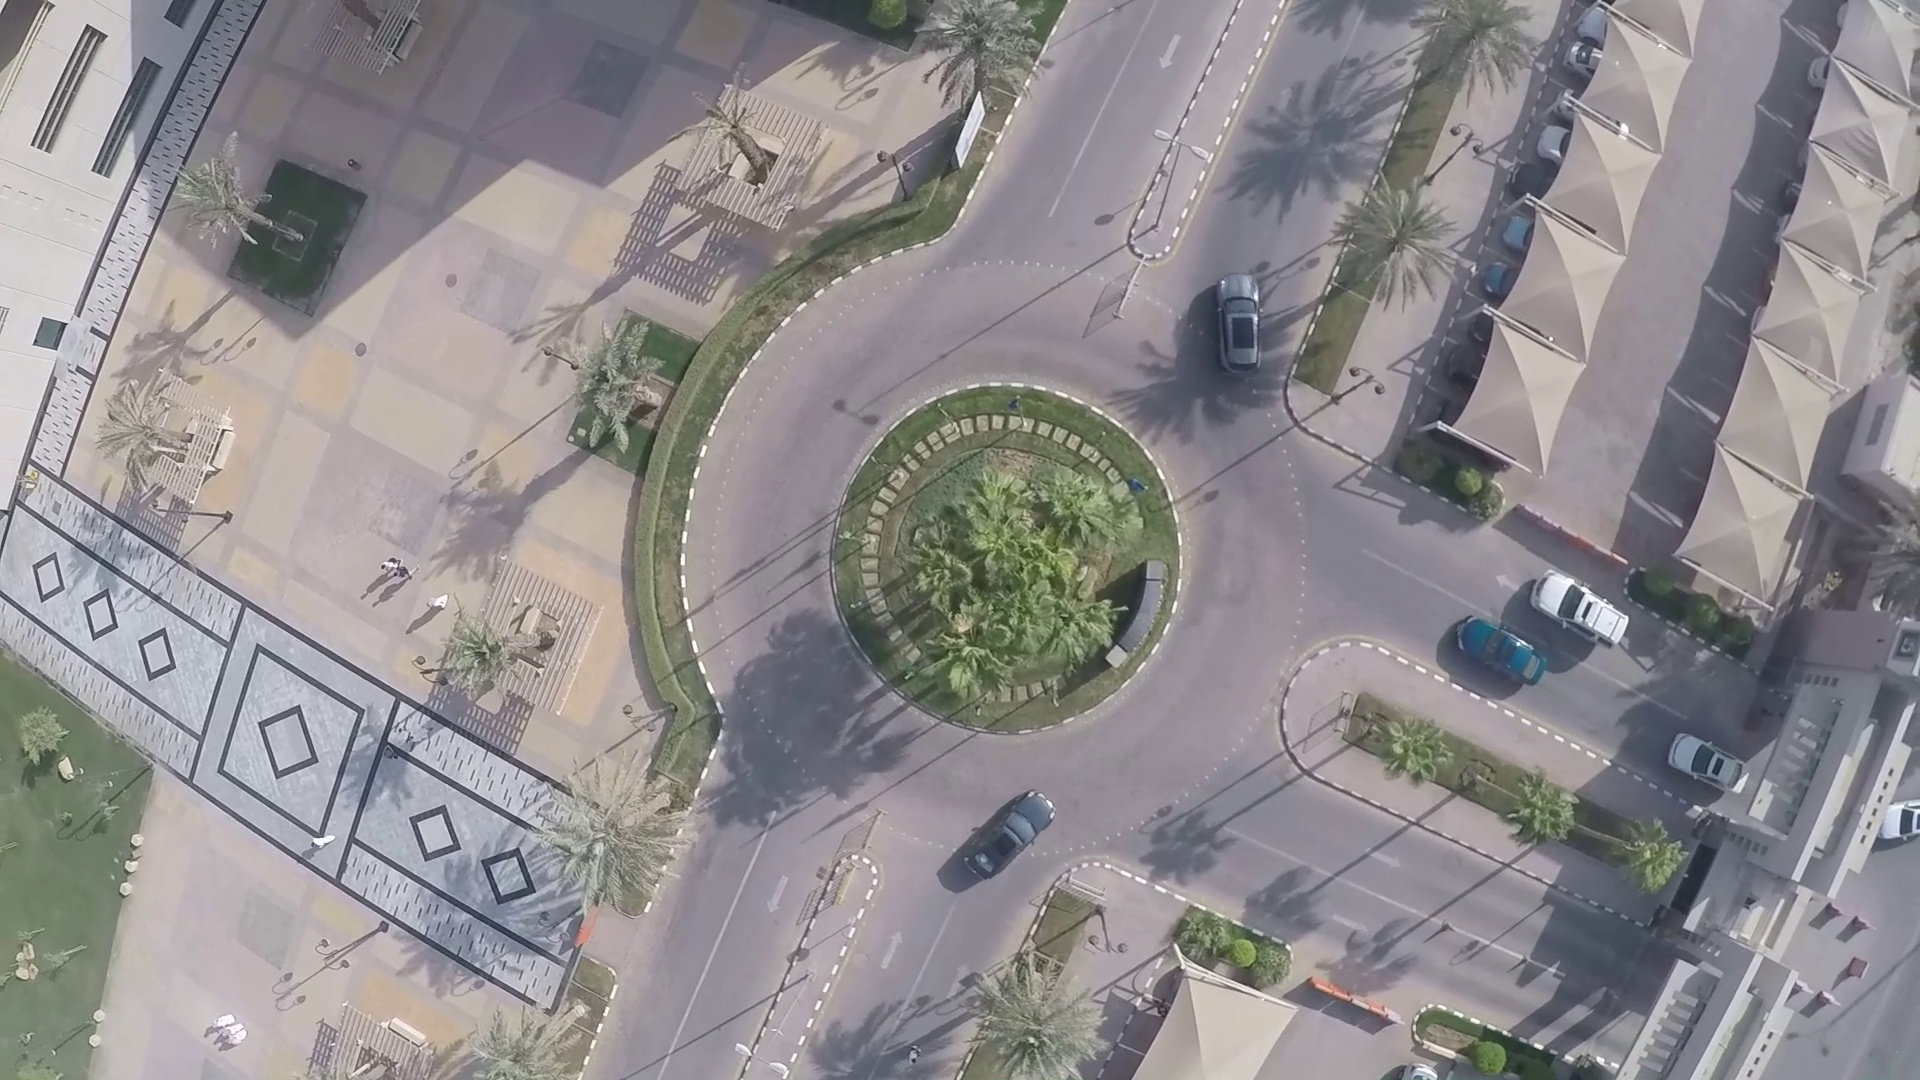car: (948, 782, 1052, 887), (1662, 717, 1758, 803), (1208, 264, 1270, 380), (1451, 615, 1538, 692)
